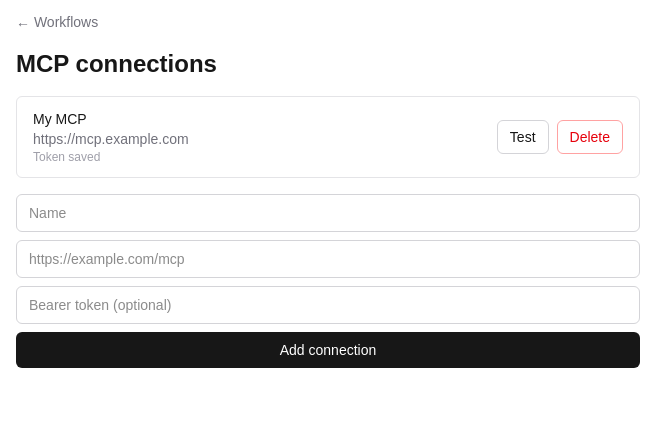
McpConnectionsPage › shows returned tools when the test-connection button is clicked
This screenshot has width=657, height=425.
Expected: the text "My MCP" is shown, [33,111,87,127]
Step 1. Click the button "Test" → (523, 137), box [497,120,548,154]
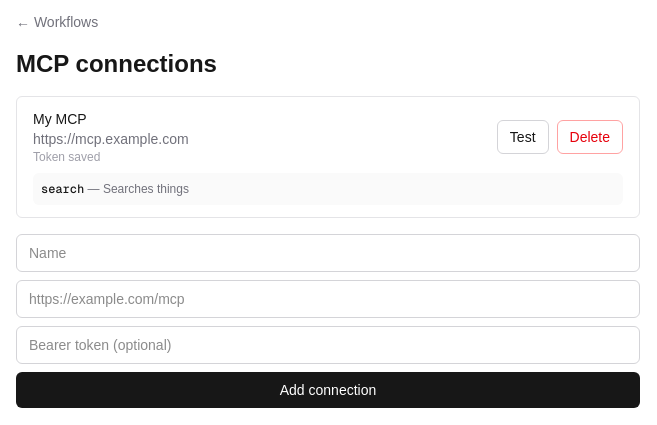
Expected: the text "search" is shown, [41,181,84,197]
Expected: the text "— Searches things" is shown, [84,182,189,196]
